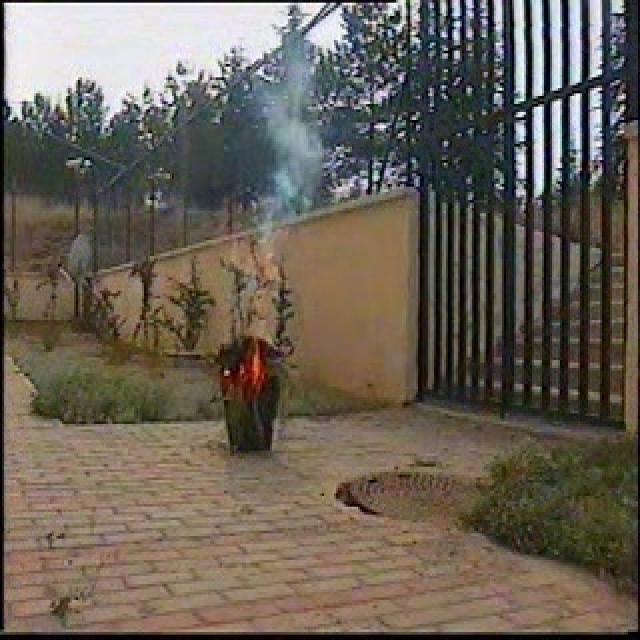Smoke: (272, 110, 318, 229)
